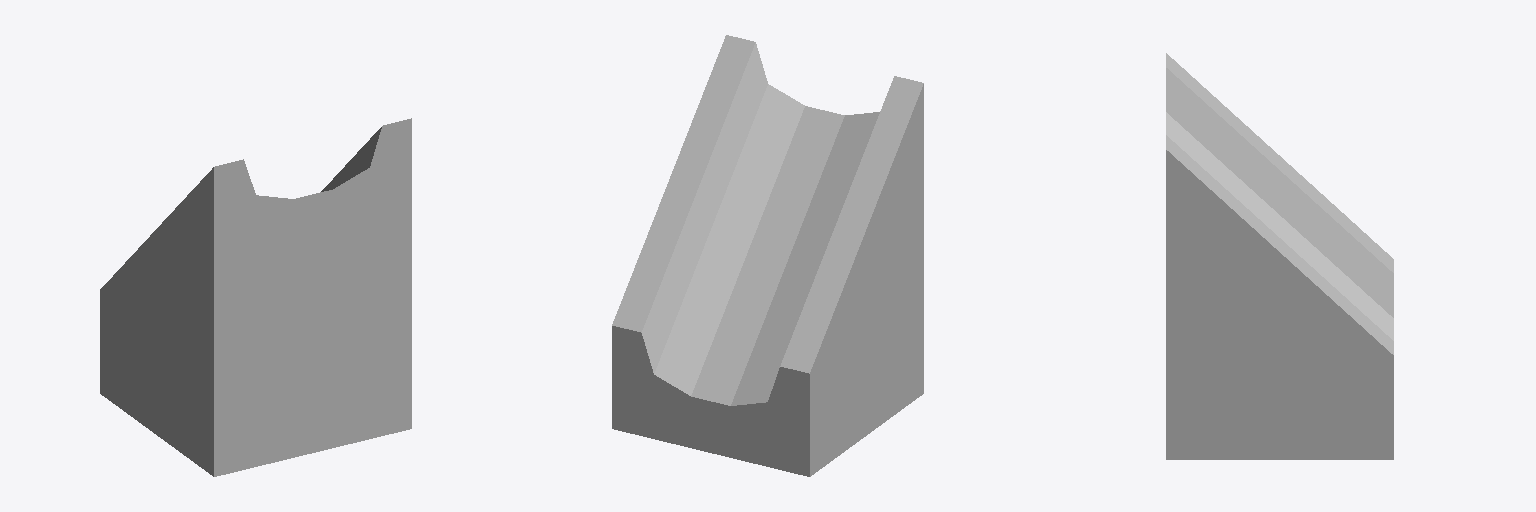
The model's file is slant-solid-c.obj.
3 renders of one model, left to right at view 1: azimuth 30°, elevation 25°; view 2: azimuth 150°, elevation 25°; view 3: azimuth 270°, elevation 25°, orthographic.
Visible parts, largest first — view 1: slant-solid-c; view 2: slant-solid-c; view 3: slant-solid-c.
Part boxes in pixels (x1,y1,x2,y2): slant-solid-c: (100,118,411,476); slant-solid-c: (612,35,923,476); slant-solid-c: (1166,53,1393,459).
Bounding box in the file's own units: 1 × 1.5 × 1.